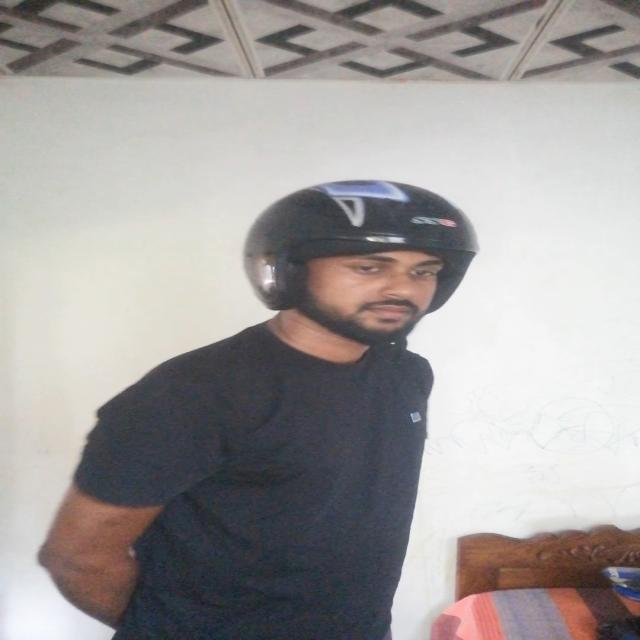Helmet_Wearer: (208, 165, 510, 371)
Person: (56, 176, 465, 640)
